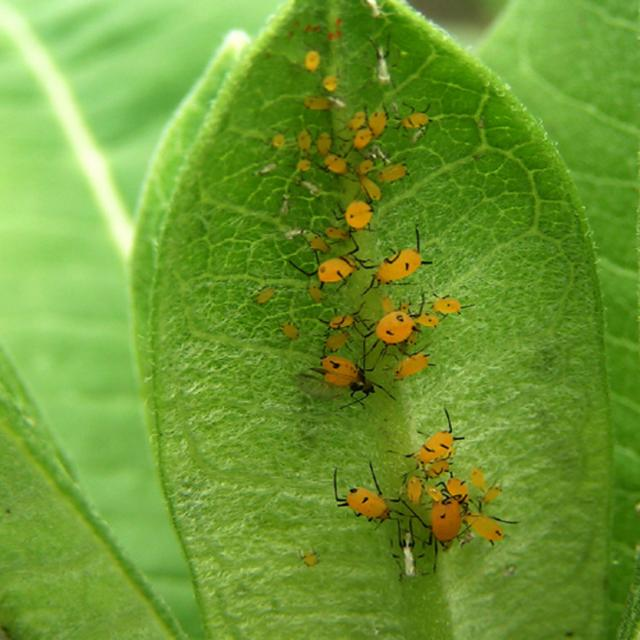Aphid-Grouped-: (258, 34, 512, 574)
Aphid-Grown-: (326, 453, 401, 533), (371, 226, 438, 296), (293, 228, 366, 292), (362, 295, 426, 353), (328, 191, 386, 241)
